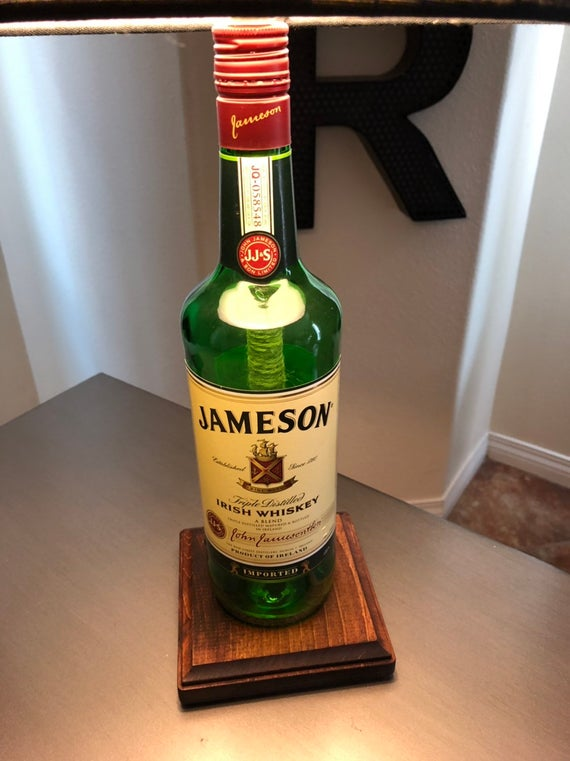Jameson: (175, 15, 347, 633)
